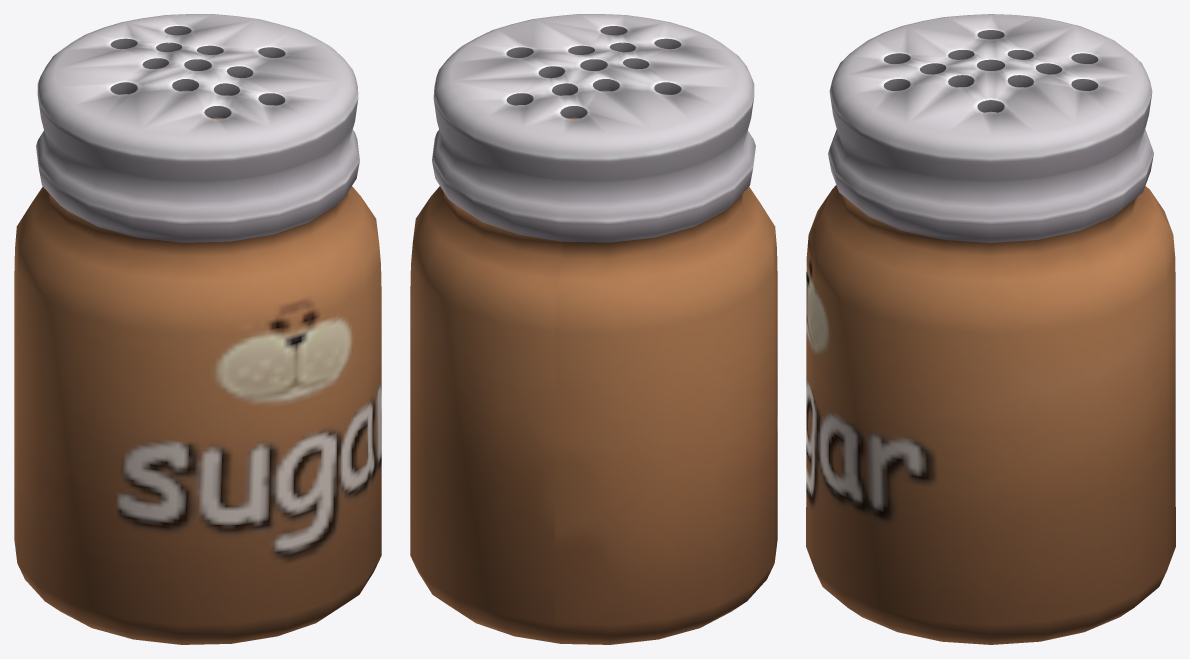
Rendered from Restaurant_Ice cream_The sugar pot.FBX.
The picture shows the model from 3 angles, left to right: view 1: azimuth 30°, elevation 25°; view 2: azimuth 150°, elevation 25°; view 3: azimuth 270°, elevation 25°; orthographic projection.
Visible parts, largest first — view 1: Restaurant_Ice_cream_The_sugar_pot; view 2: Restaurant_Ice_cream_The_sugar_pot; view 3: Restaurant_Ice_cream_The_sugar_pot.
Part boxes in pixels (bbox=[...]): Restaurant_Ice_cream_The_sugar_pot: bbox=[14, 14, 381, 644]; Restaurant_Ice_cream_The_sugar_pot: bbox=[410, 14, 777, 644]; Restaurant_Ice_cream_The_sugar_pot: bbox=[806, 14, 1175, 644].
Size of the model in its own units: 1.36 by 2.1 by 1.36.
